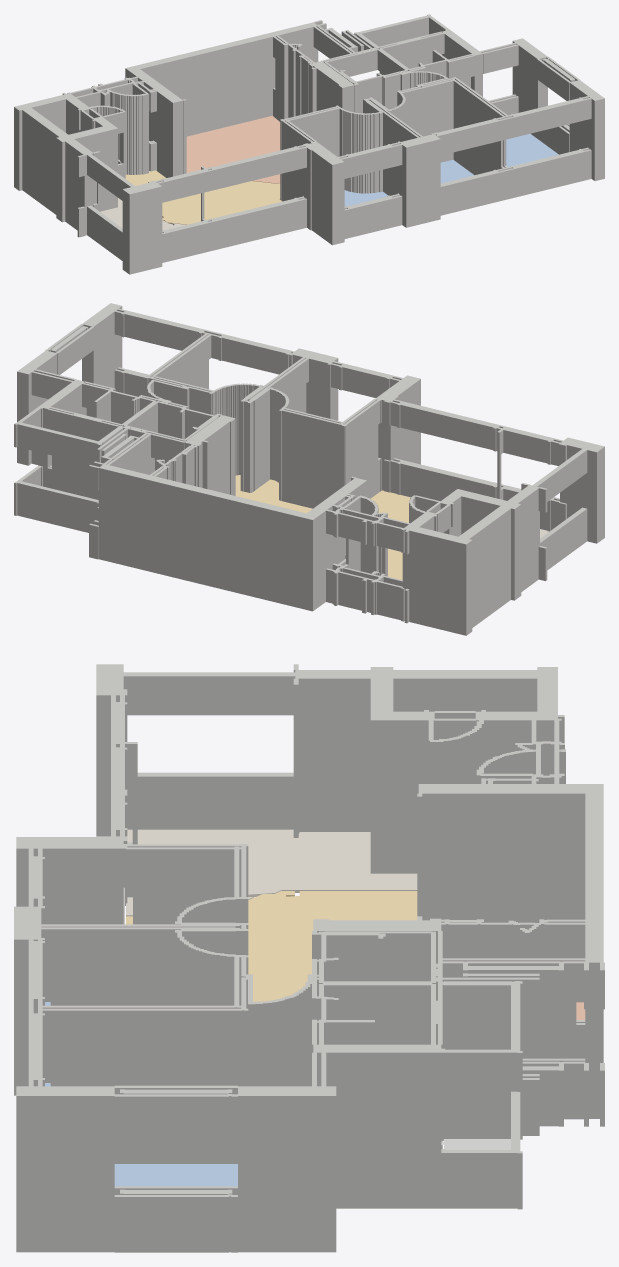
3 renders of one model, top to bottom at view 1: azimuth 30°, elevation 25°; view 2: azimuth 150°, elevation 25°; view 3: azimuth 270°, elevation 25°, orthographic. The views are drawn at different scales.
Visible parts, largest first — view 1: walls, room:kitchen:0, room:living:7, room:bedroom:6, room:bedroom:5, room:other:8, room:bedroom:4; view 2: walls, room:living:7; view 3: walls, room:other:8, room:living:7, room:bedroom:6.
Part boxes in pixels (x1,y1,x2,y2): walls: (14, 14, 604, 274); room:kitchen:0: (186, 115, 280, 183); room:living:7: (125, 170, 282, 224); room:bedroom:6: (506, 133, 558, 166); room:bedroom:5: (440, 159, 473, 183); room:other:8: (100, 198, 185, 230); room:bedroom:4: (344, 190, 387, 206); walls: (14, 303, 604, 635); room:living:7: (235, 475, 410, 579); walls: (14, 664, 604, 1252); room:other:8: (126, 829, 417, 916); room:living:7: (126, 891, 417, 1002); room:bedroom:6: (114, 1164, 237, 1186).
Size of the model in its own units: 16.62 by 2.8 by 9.6.
